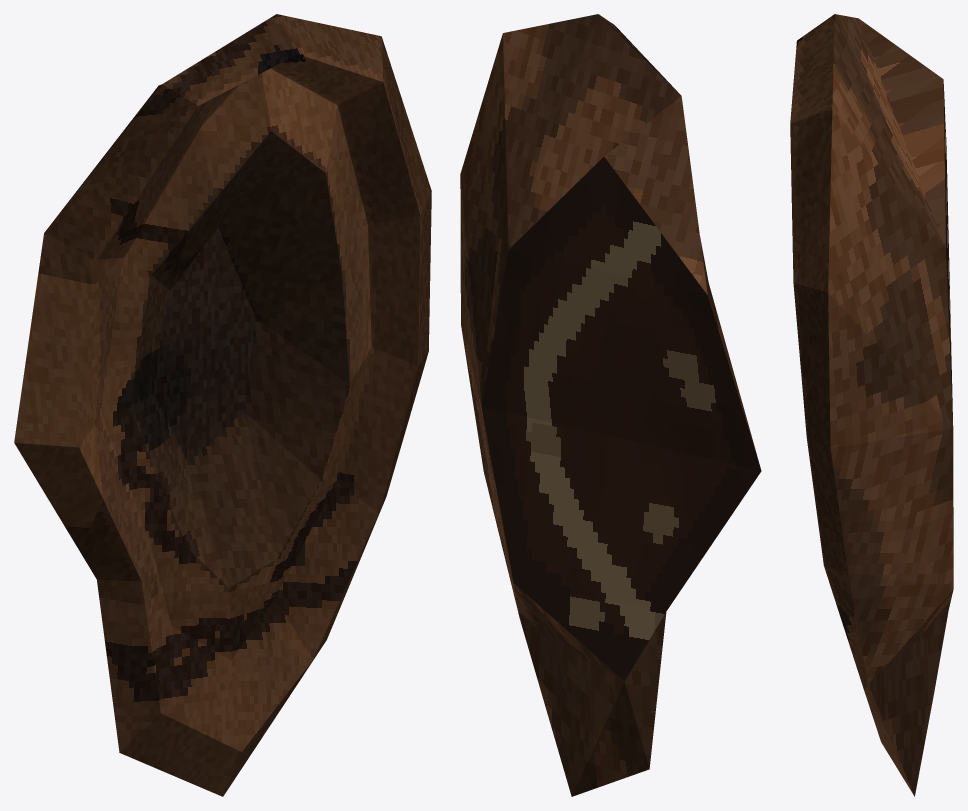
File: charm_ear_dried.glb
3 renders of one model, left to right at view 1: azimuth 30°, elevation 25°; view 2: azimuth 150°, elevation 25°; view 3: azimuth 270°, elevation 25°, orthographic. The views are drawn at different scales.
Parts seen in each view (by area): view 1: charm_ear_dried; view 2: charm_ear_dried; view 3: charm_ear_dried.
Boxes of the visible parts, x1=… form: charm_ear_dried: x1=14, y1=14, x2=431, y2=796; charm_ear_dried: x1=460, y1=14, x2=761, y2=796; charm_ear_dried: x1=790, y1=14, x2=953, y2=796.
Bounding box in the file's own units: 0.0187 × 0.039 × 0.00733.
1 material, 1 textured.
